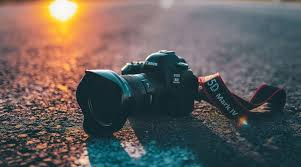camera: (78, 51, 199, 129)
